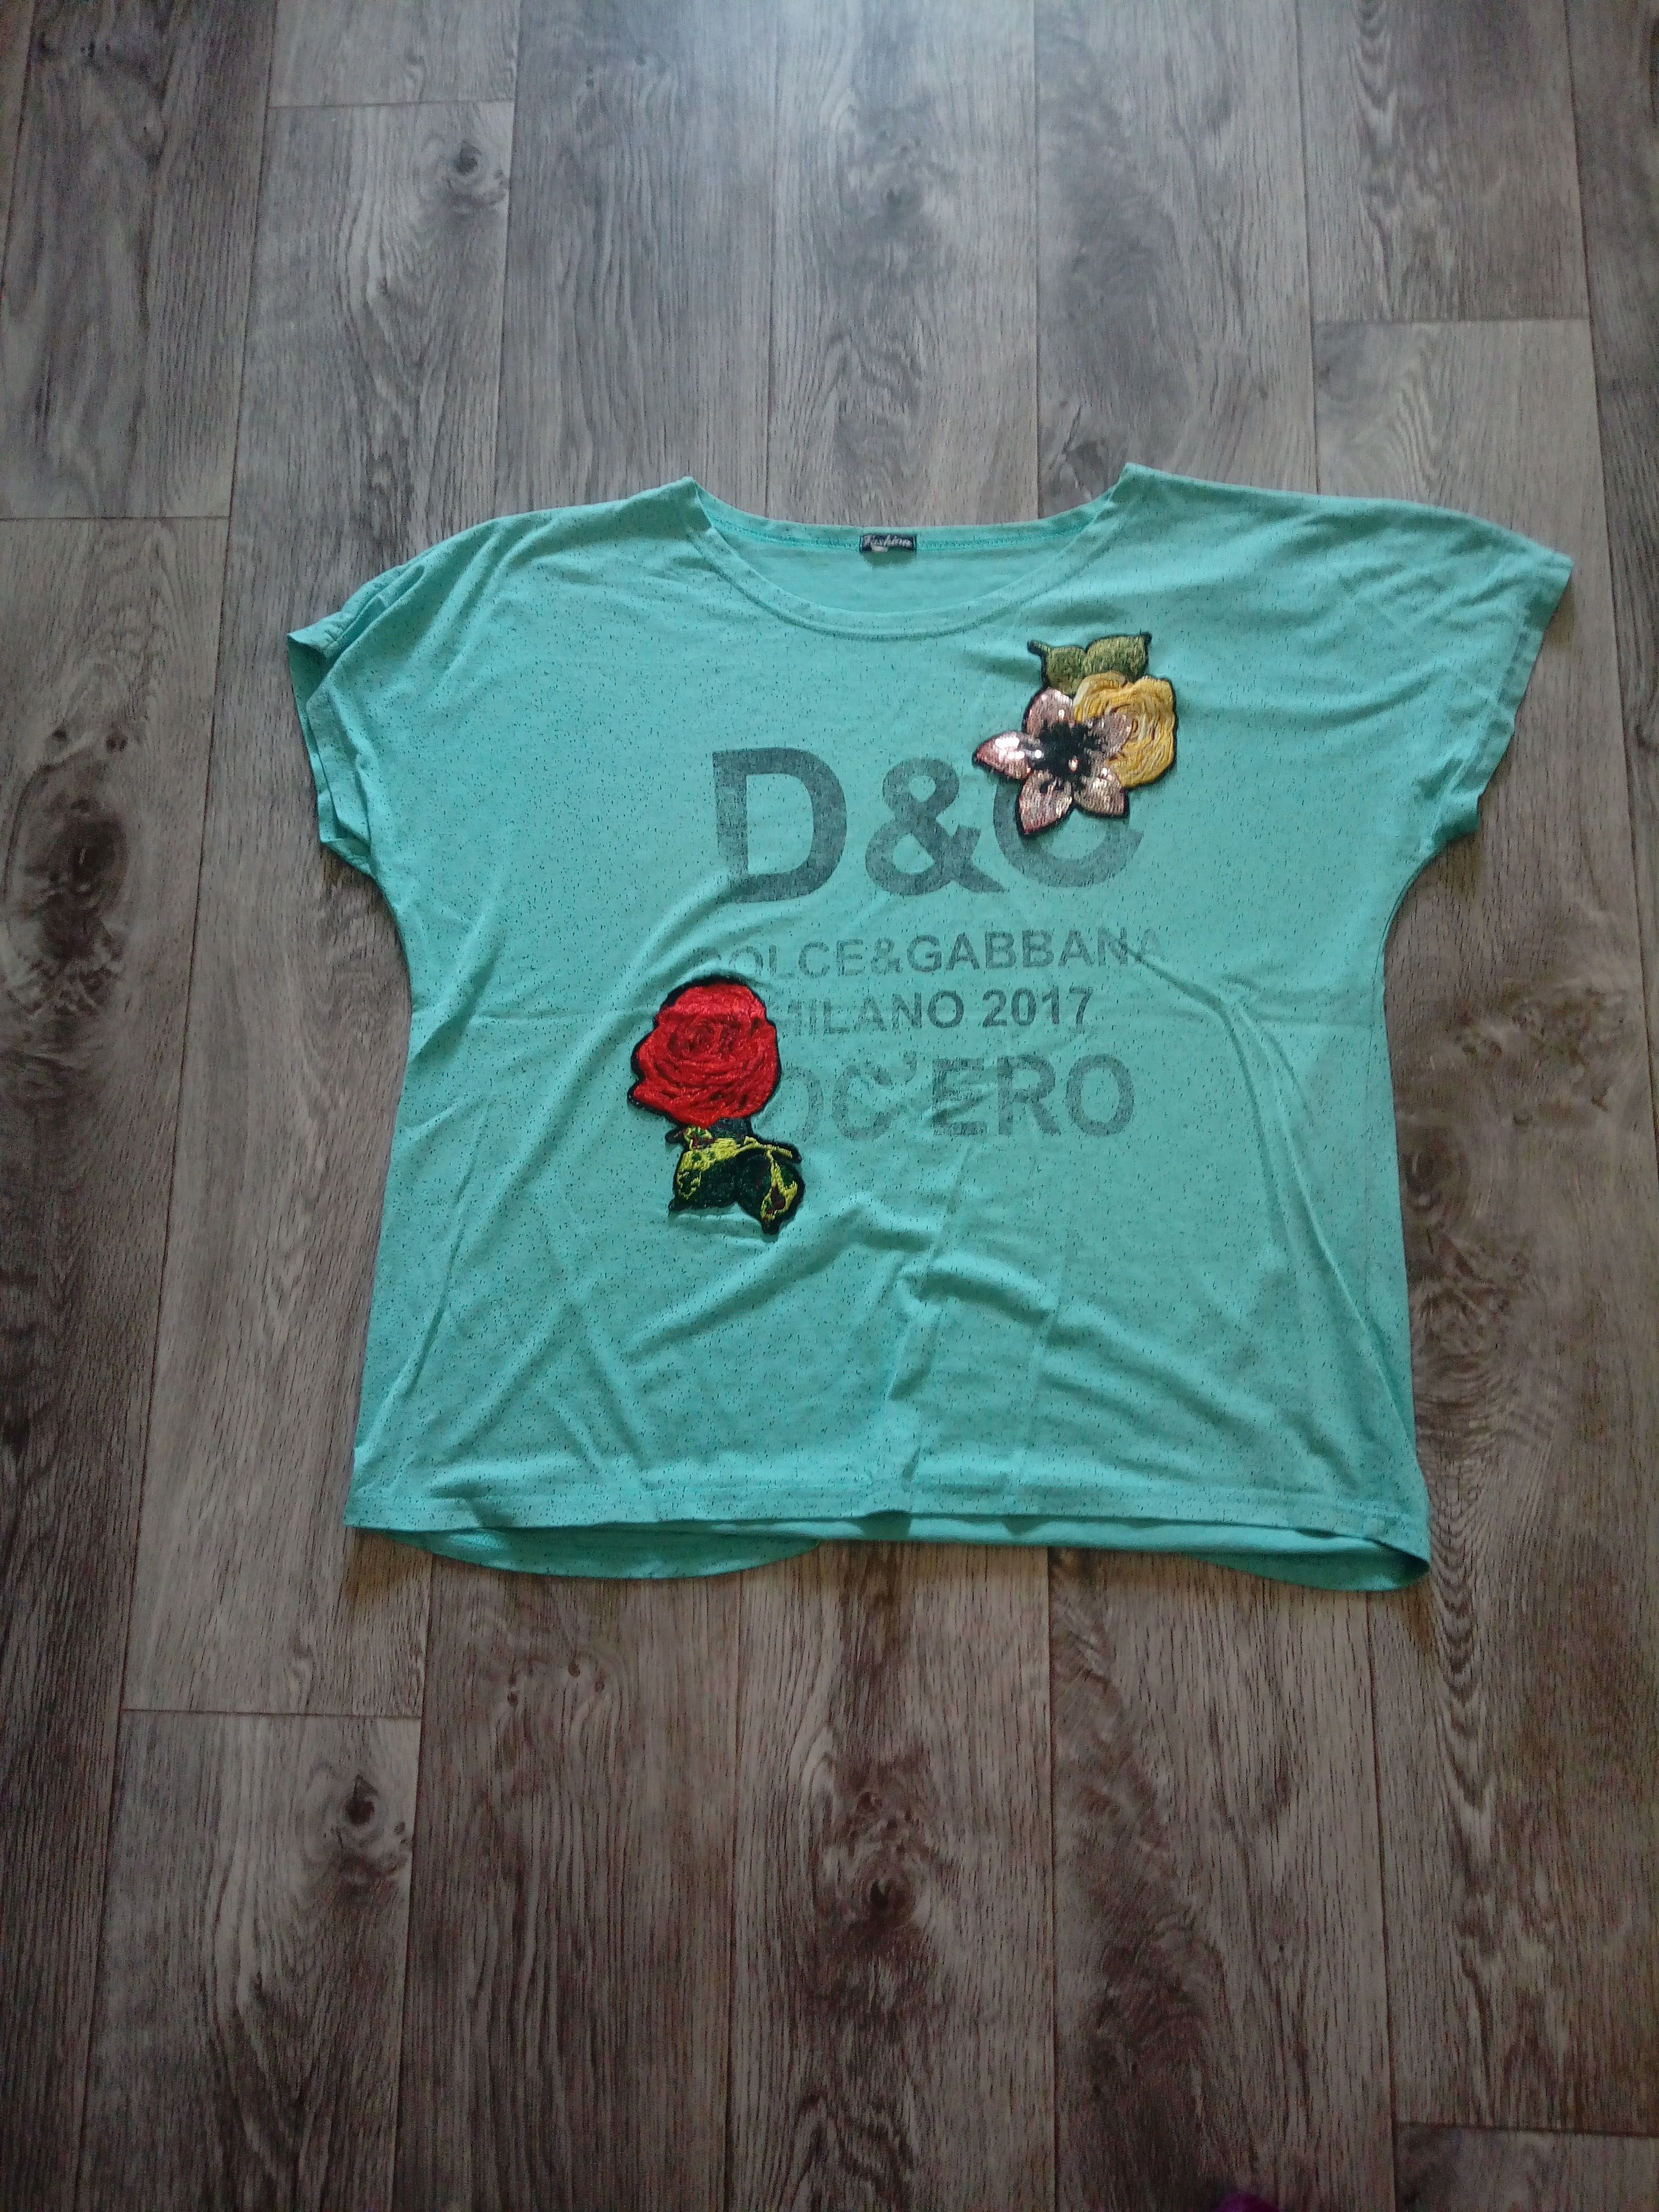clothes: (261, 460, 1553, 1573)
